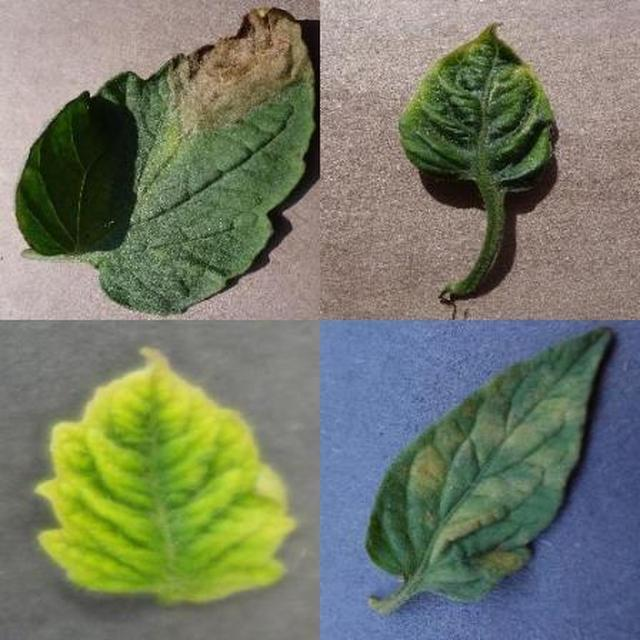Late Blight Leaf: (230, 157, 640, 640)
